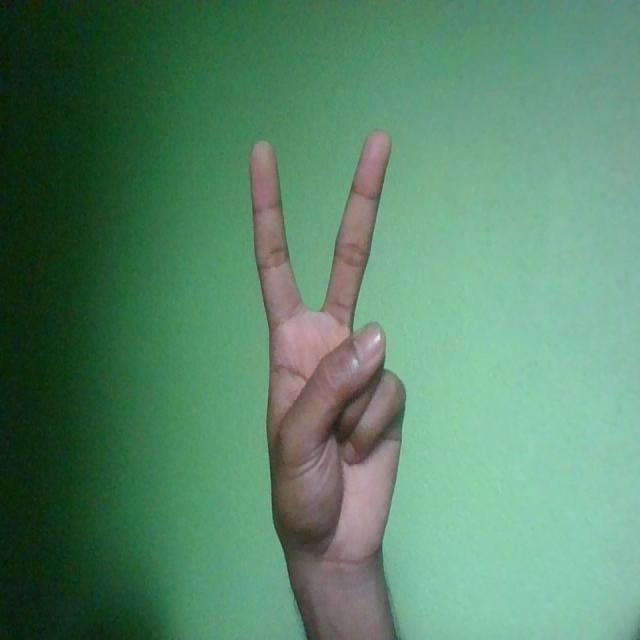Fist: (250, 126, 408, 582)
